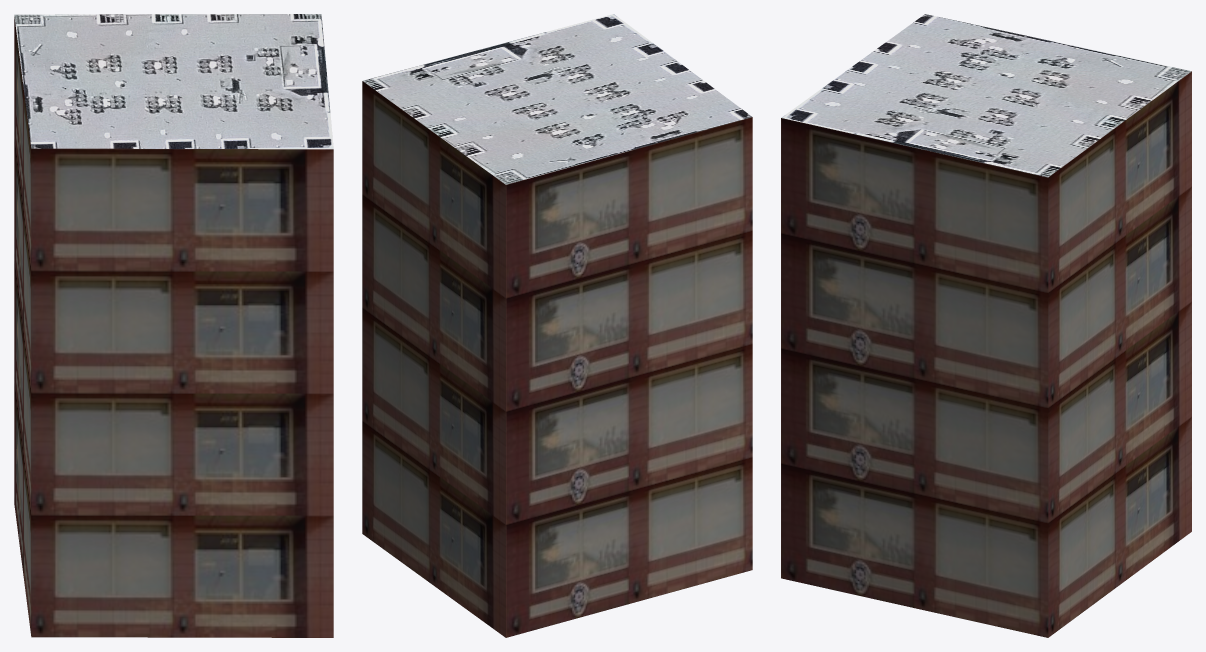
File: ResTex__352.fbx
3 renders of one model, left to right at view 1: azimuth 30°, elevation 25°; view 2: azimuth 150°, elevation 25°; view 3: azimuth 270°, elevation 25°, orthographic. The views are drawn at different scales.
Parts seen in each view (by area): view 1: CityEngineMaterial_13_m, CityEngineMaterial_8_m; view 2: CityEngineMaterial_13_m, CityEngineMaterial_8_m; view 3: CityEngineMaterial_13_m, CityEngineMaterial_8_m.
Part boxes in pixels (x1,y1,x2,y2): CityEngineMaterial_13_m: (14,17,333,637); CityEngineMaterial_8_m: (14,14,333,149); CityEngineMaterial_13_m: (362,81,752,637); CityEngineMaterial_8_m: (363,14,751,184); CityEngineMaterial_13_m: (781,71,1191,637); CityEngineMaterial_8_m: (781,14,1191,177).
Bounding box in the file's own units: 9.14 × 12 × 9.7.
2 materials, 2 textured.
